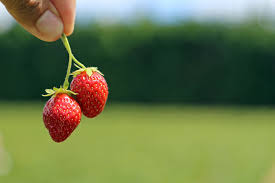ripe: (67, 67, 109, 121), (43, 94, 82, 145)
